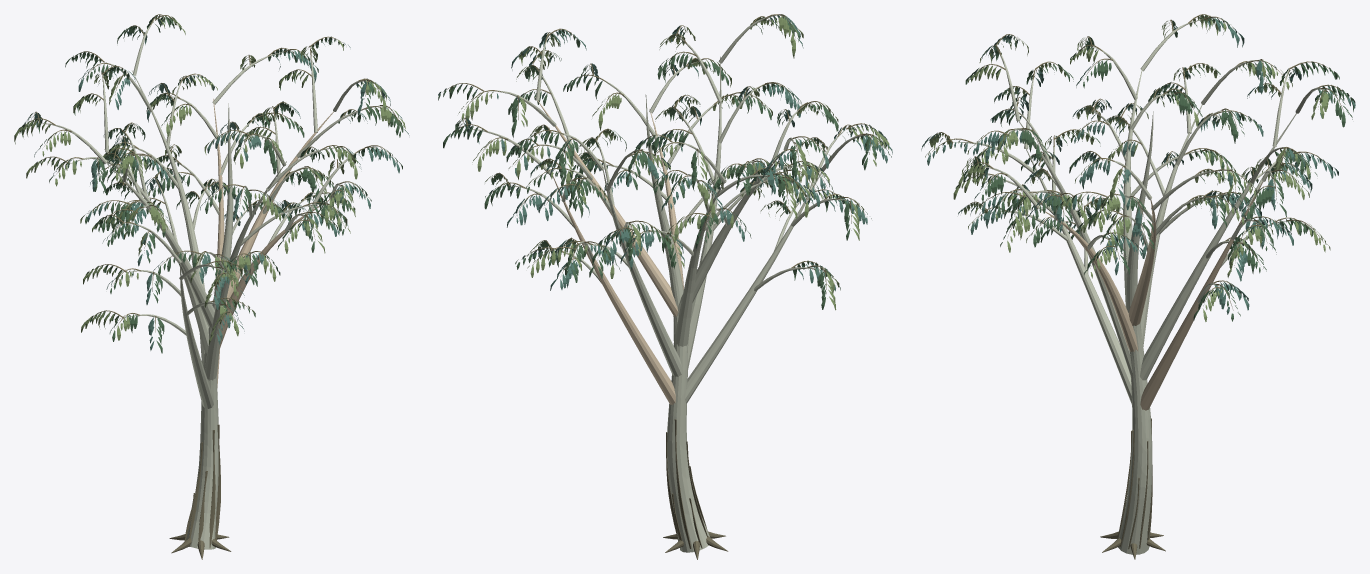
File: ecology-eucalyptus-near-0.glb
3 renders of one model, left to right at view 1: azimuth 30°, elevation 25°; view 2: azimuth 150°, elevation 25°; view 3: azimuth 270°, elevation 25°, orthographic. The views are drawn at different scales.
Visible parts, largest first — view 1: eucalyptus-near-126; view 2: eucalyptus-near-126; view 3: eucalyptus-near-126.
Boxes of the visible parts, <box> form: eucalyptus-near-126: <box>14,14,409,559</box>; eucalyptus-near-126: <box>438,14,892,559</box>; eucalyptus-near-126: <box>921,14,1355,559</box>.
Bounding box in the file's own units: 9.41 × 12.26 × 9.66.
